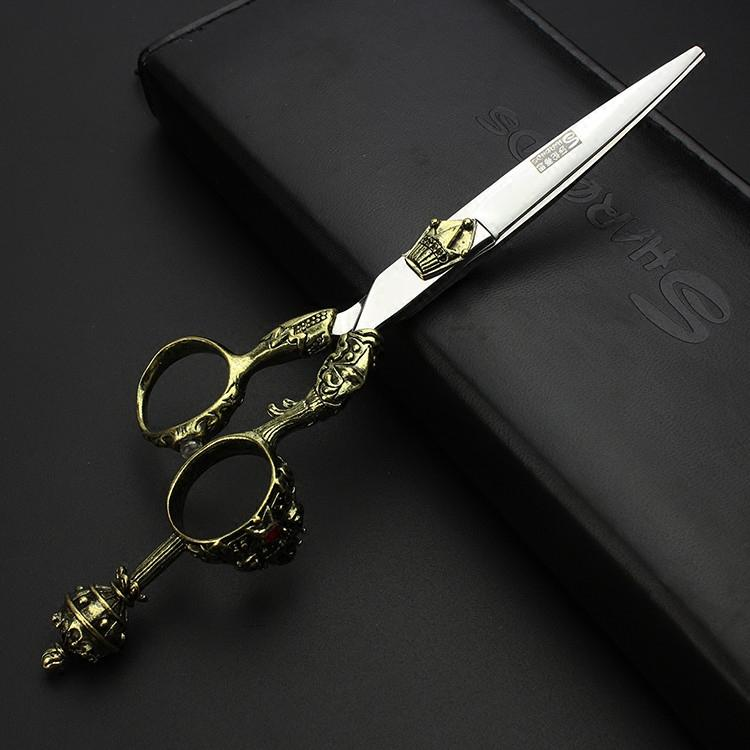scissor: (77, 22, 687, 655)
